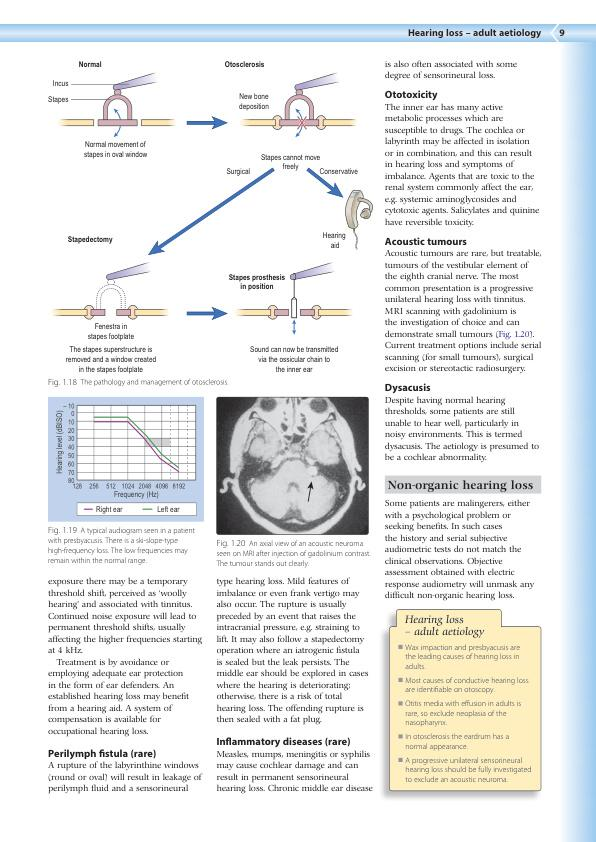caption: (47, 525, 196, 567), (215, 538, 372, 570), (403, 613, 485, 638), (47, 378, 230, 388)
header: (407, 28, 542, 39)
image: (38, 49, 378, 377), (215, 395, 369, 536), (47, 397, 203, 522)
list: (396, 642, 533, 783)
section-heading: (387, 479, 534, 493)
sub-section-heading: (216, 736, 351, 748), (47, 748, 158, 760), (384, 236, 468, 246), (384, 89, 439, 101), (384, 382, 432, 395)
text: (47, 576, 204, 737), (215, 576, 369, 726), (383, 248, 542, 375), (383, 102, 541, 227), (384, 498, 535, 602), (384, 395, 540, 463), (215, 749, 374, 795), (46, 760, 204, 795), (384, 59, 519, 82)
